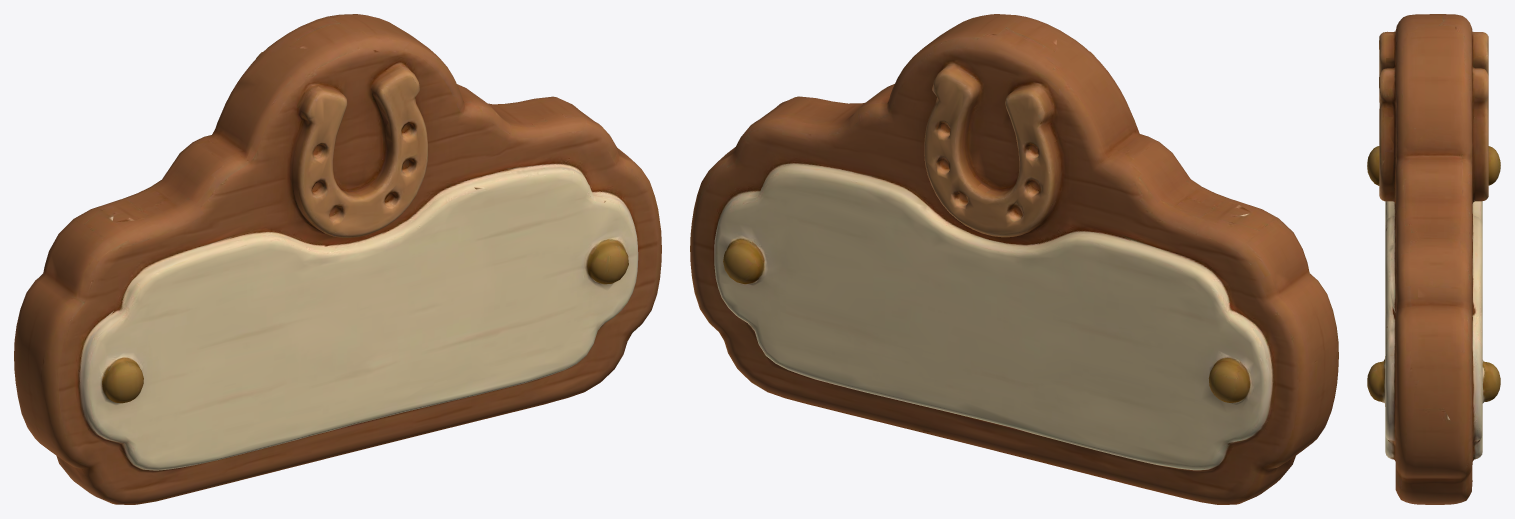
The picture shows the model from 3 angles, left to right: view 1: azimuth 30°, elevation 25°; view 2: azimuth 150°, elevation 25°; view 3: azimuth 270°, elevation 25°; orthographic projection. The views are drawn at different scales.
Visible parts, largest first — view 1: name-plate; view 2: name-plate; view 3: name-plate.
Boxes of the visible parts, bbox=[...] form: name-plate: bbox=[14, 14, 661, 504]; name-plate: bbox=[690, 14, 1338, 504]; name-plate: bbox=[1367, 14, 1500, 504].
Size of the model in its own units: 0.4999 by 0.3214 by 0.1021.
Materials: 1 (1 with a texture image).
